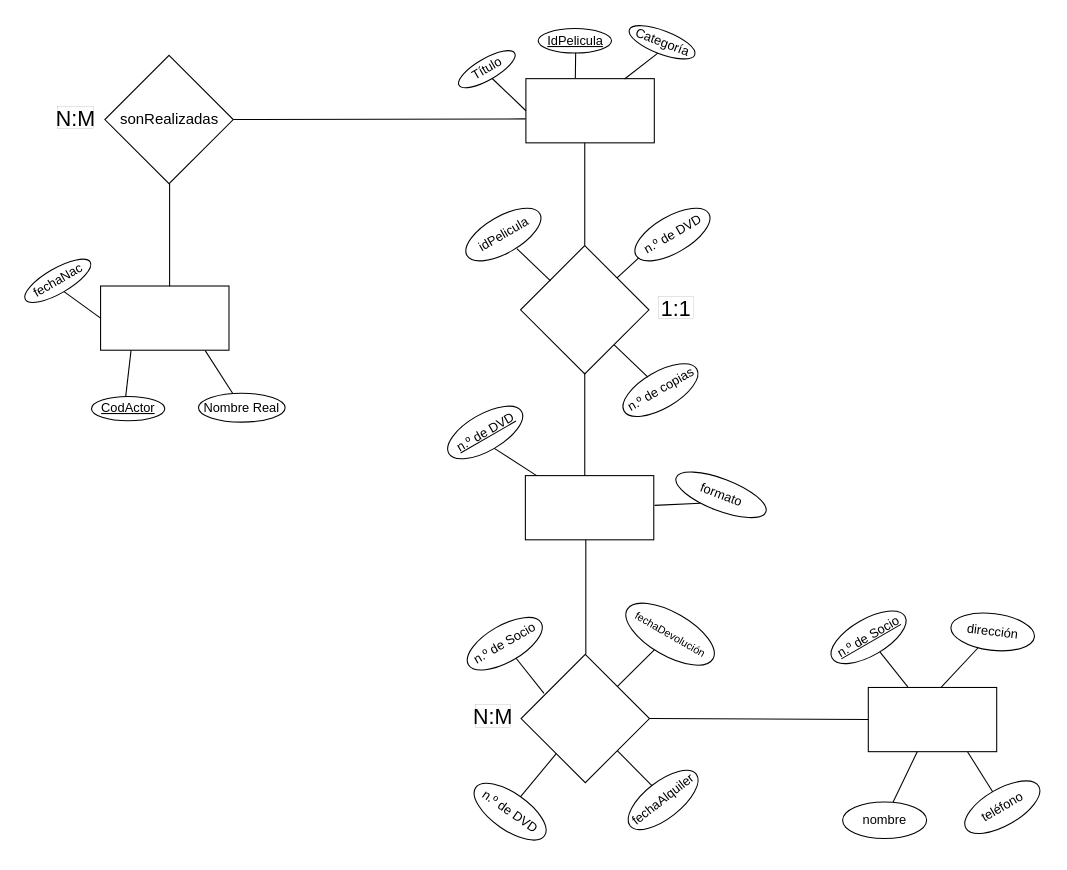
This 1067x870 diagram has some shape labels left out. Each missing label, with the centre of its shape:
"ACTORES" belongs at point 164,317.
"Alquilan" belongs at point 584,718.
"DVD" belongs at point 589,507.
"esGrabada" belongs at point 584,309.
"PELICULAS" belongs at point 589,110.
"SOCIO" belongs at point 932,719.
